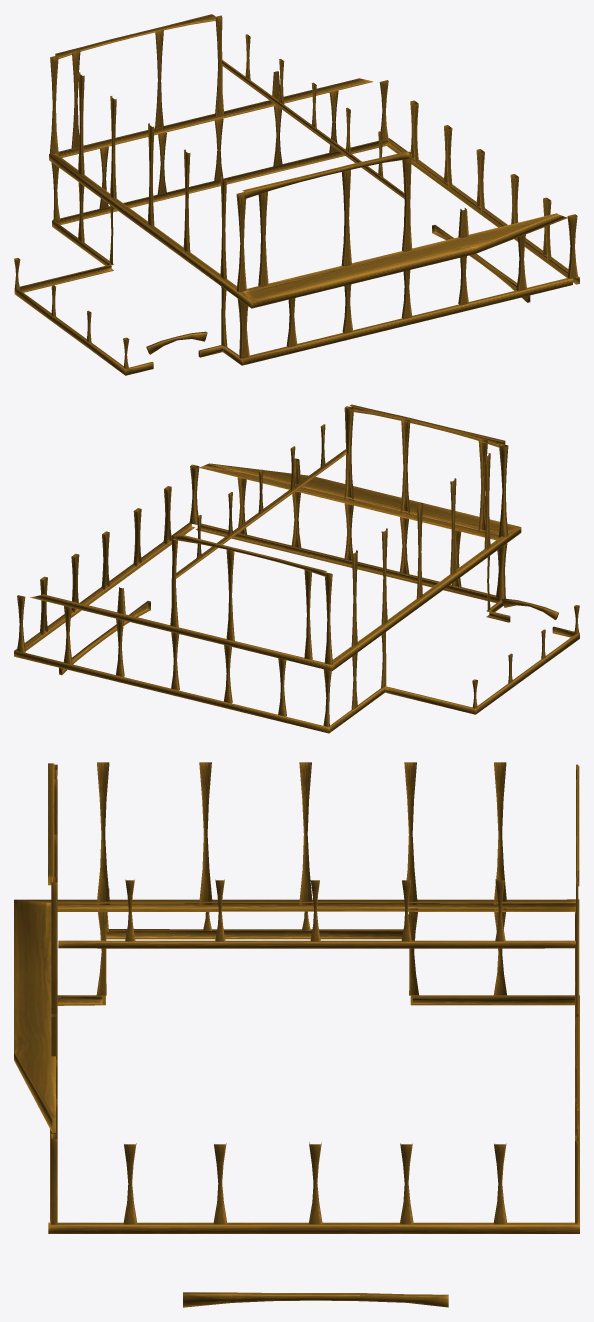
The model's file is HTOWN01_MILLEXTRAFTERS.fbx.
3 views of the same model, one above another, from view 1: azimuth 30°, elevation 25°; view 2: azimuth 150°, elevation 25°; view 3: azimuth 270°, elevation 25° (orthographic). The views are drawn at different scales.
Visible parts, largest first — view 1: HTOWN01_MILLEXTRAFTERS; view 2: HTOWN01_MILLEXTRAFTERS; view 3: HTOWN01_MILLEXTRAFTERS.
Boxes of the visible parts, x1,y1,x2,y2 form: HTOWN01_MILLEXTRAFTERS: (14, 14, 579, 375); HTOWN01_MILLEXTRAFTERS: (14, 404, 579, 733); HTOWN01_MILLEXTRAFTERS: (14, 762, 579, 1307).
Size of the model in its own units: 174850 by 87170 by 141165.
Materials: 1 (1 with a texture image).
